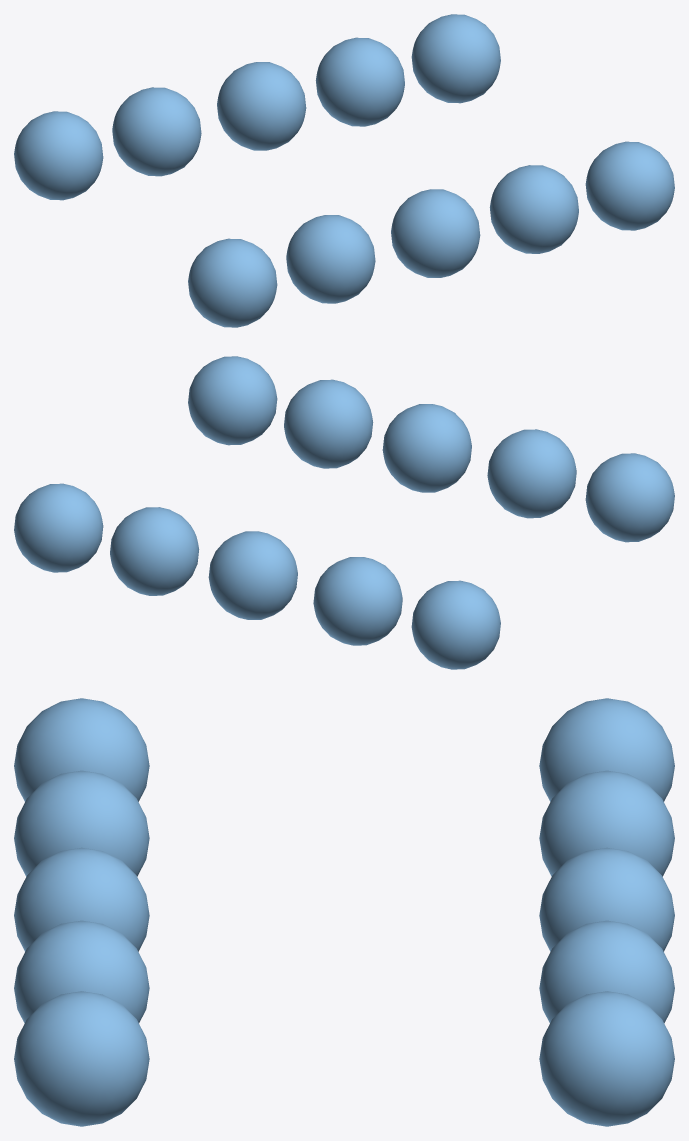
The model's file is basicMaterials.glb.
3 views of the same model, one above another, from view 1: azimuth 30°, elevation 25°; view 2: azimuth 150°, elevation 25°; view 3: azimuth 270°, elevation 25° (orthographic). The views are drawn at different scales.
Parts seen in each view (by area): view 1: Icosphere.006, Icosphere, Icosphere.009, Icosphere.007, Icosphere.001, Icosphere.003, Icosphere.008, Icosphere.002, Icosphere.004, Icosphere.005; view 2: Icosphere.001, Icosphere.004, Icosphere.005, Icosphere.002, Icosphere.006, Icosphere.008, Icosphere.003, Icosphere.007, Icosphere, Icosphere.009; view 3: Icosphere.004, Icosphere.009, Icosphere.001, Icosphere.006, Icosphere.002, Icosphere.007, Icosphere, Icosphere.005, Icosphere.003, Icosphere.008.
Boxes of the visible parts, x1=… form: Icosphere.006: x1=112, y1=87, x2=201, y2=176; Icosphere: x1=188, y1=238, x2=277, y2=327; Icosphere.009: x1=411, y1=14, x2=500, y2=103; Icosphere.007: x1=217, y1=62, x2=306, y2=150; Icosphere.001: x1=286, y1=215, x2=375, y2=303; Icosphere.003: x1=489, y1=165, x2=578, y2=253; Icosphere.008: x1=315, y1=37, x2=404, y2=126; Icosphere.002: x1=391, y1=189, x2=480, y2=277; Icosphere.004: x1=585, y1=141, x2=674, y2=230; Icosphere.005: x1=14, y1=111, x2=103, y2=200; Icosphere.001: x1=487, y1=429, x2=576, y2=518; Icosphere.004: x1=188, y1=356, x2=277, y2=445; Icosphere.005: x1=411, y1=580, x2=500, y2=669; Icosphere.002: x1=382, y1=404, x2=471, y2=492; Icosphere.006: x1=313, y1=557, x2=402, y2=645; Icosphere.008: x1=110, y1=507, x2=199, y2=595; Icosphere.003: x1=284, y1=379, x2=373, y2=468; Icosphere.007: x1=208, y1=531, x2=297, y2=619; Icosphere: x1=585, y1=453, x2=674, y2=542; Icosphere.009: x1=14, y1=483, x2=103, y2=572; Icosphere.004: x1=14, y1=991, x2=149, y2=1126; Icosphere.009: x1=539, y1=991, x2=674, y2=1126; Icosphere.001: x1=14, y1=770, x2=149, y2=876; Icosphere.006: x1=539, y1=770, x2=674, y2=876; Icosphere.002: x1=14, y1=847, x2=149, y2=951; Icosphere.007: x1=539, y1=847, x2=674, y2=951; Icosphere: x1=14, y1=698, x2=149, y2=801; Icosphere.005: x1=539, y1=698, x2=674, y2=801; Icosphere.003: x1=14, y1=920, x2=149, y2=1023; Icosphere.008: x1=539, y1=920, x2=674, y2=1023.
Size of the model in its own units: 12.22 by 2 by 9.74.
